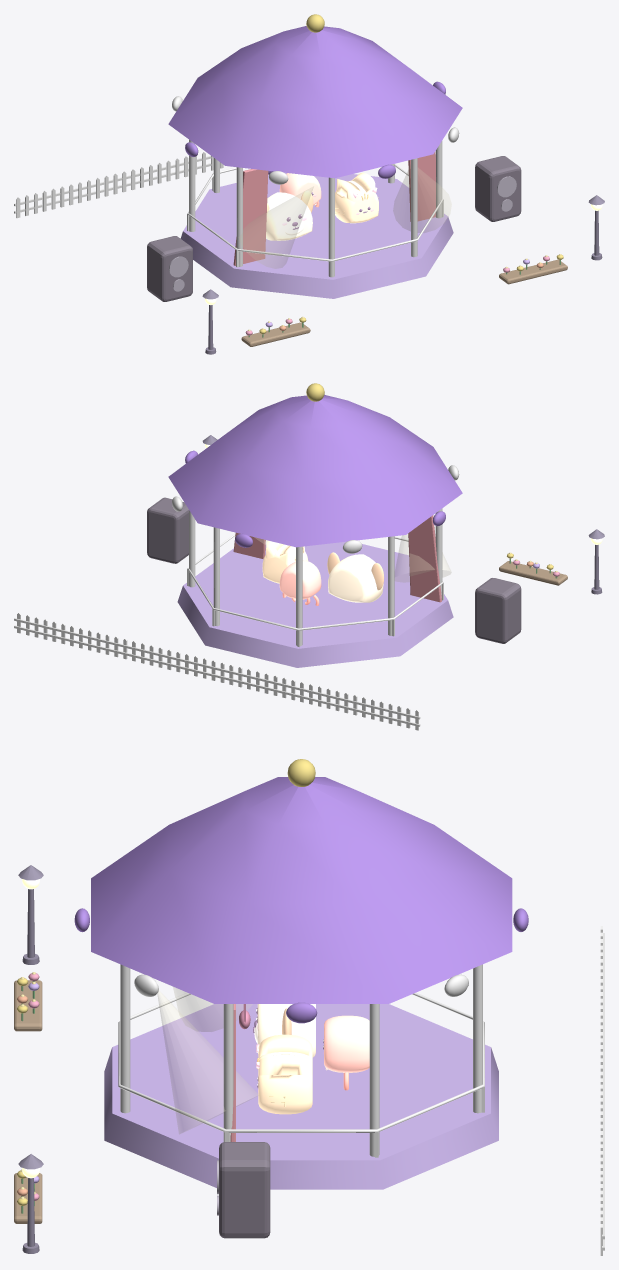
The model's file is building_bandstand_L08.glb.
3 views of the same model, one above another, from view 1: azimuth 30°, elevation 25°; view 2: azimuth 150°, elevation 25°; view 3: azimuth 270°, elevation 25° (orthographic). The views are drawn at different scales.
Parts seen in each view (by area): view 1: Body, bandstand_L8, object 17, object 7, object 29; view 2: Body, bandstand_L8, object 7, object 29, object 17; view 3: Body, bandstand_L8, object 17, object 29, object 7.
Boxes of the visible parts, x1,y1,x2,y2 form: Body: (147, 14, 521, 301); bandstand_L8: (14, 152, 604, 354); object 17: (335, 172, 378, 223); object 7: (266, 192, 312, 240); object 29: (279, 173, 321, 205); Body: (147, 383, 521, 667); bandstand_L8: (14, 435, 604, 730); object 7: (328, 554, 383, 602); object 29: (279, 560, 321, 599); object 17: (262, 540, 308, 583); Body: (74, 759, 528, 1238); bandstand_L8: (14, 865, 604, 1255); object 17: (258, 1034, 312, 1114); object 29: (324, 1015, 369, 1072); object 7: (257, 1004, 315, 1057).
Size of the model in its own units: 25.2 by 13.4 by 20.75.
